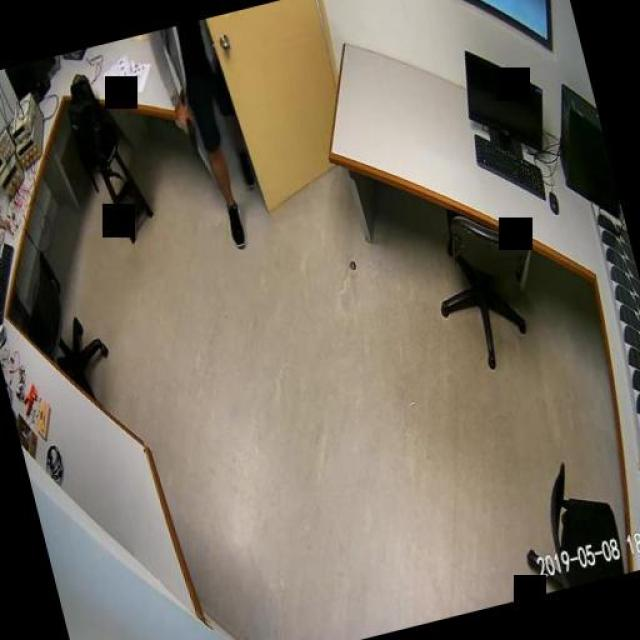gun: (178, 115, 200, 157)
